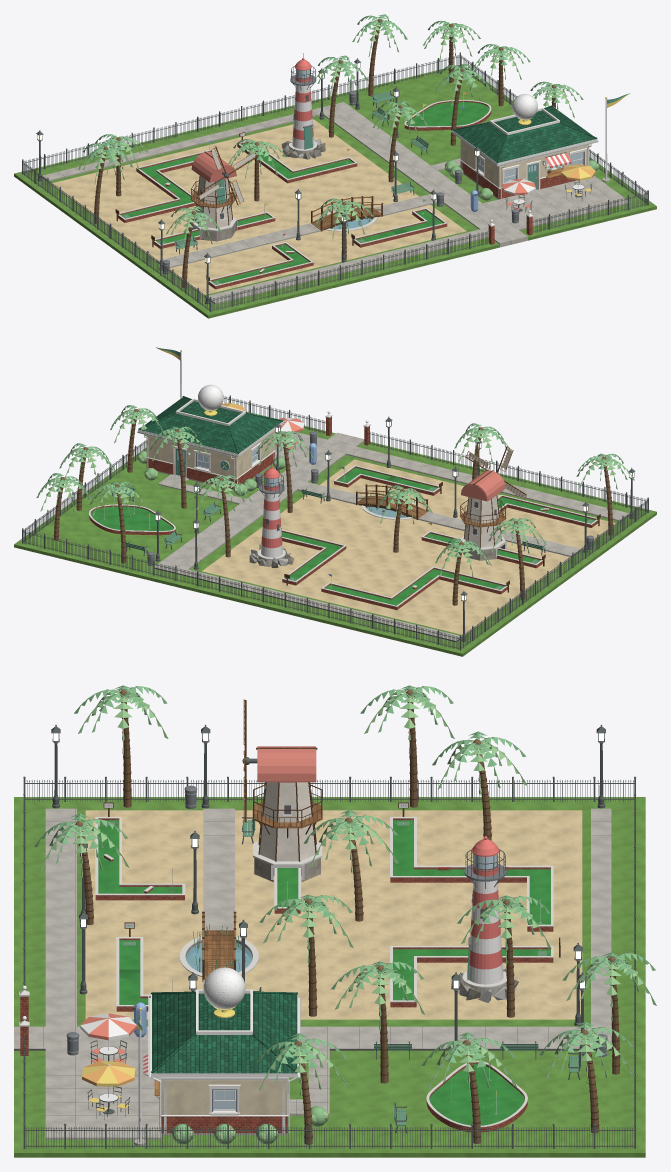
Rendered from building_assembled.glb.
3 renders of one model, top to bottom at view 1: azimuth 30°, elevation 25°; view 2: azimuth 150°, elevation 25°; view 3: azimuth 270°, elevation 25°, orthographic. The views are drawn at different scales.
Parts seen in each view (by area): view 1: geometry_219, geometry_220, geometry_217, geometry_221, geometry_129, geometry_287, geometry_256, geometry_300, geometry_257, geometry_301, geometry_127, geometry_302 (+14 smaller); view 2: geometry_219, geometry_220, geometry_221, geometry_217, geometry_129, geometry_287, geometry_300, geometry_256, geometry_257, geometry_301, geometry_302, geometry_314 (+12 smaller); view 3: geometry_219, geometry_220, geometry_217, geometry_221, geometry_129, geometry_287, geometry_300, geometry_256, geometry_301, geometry_314, geometry_236, geometry_302 (+46 smaller).
Part boxes in pixels (x1,y1,x2,y2): geometry_219: [51, 119, 466, 295]; geometry_220: [14, 64, 656, 318]; geometry_217: [42, 102, 630, 304]; geometry_221: [22, 52, 648, 312]; geometry_129: [452, 105, 597, 163]; geometry_287: [406, 102, 489, 126]; geometry_256: [121, 151, 211, 218]; geometry_300: [195, 176, 232, 228]; geometry_257: [118, 150, 218, 222]; geometry_301: [191, 152, 236, 182]; geometry_127: [452, 106, 597, 165]; geometry_302: [191, 146, 257, 228]; geometry_219: [202, 459, 616, 634]; geometry_220: [14, 411, 656, 656]; geometry_221: [22, 395, 648, 650]; geometry_217: [154, 432, 629, 640]; geometry_129: [138, 396, 283, 453]; geometry_287: [91, 506, 173, 530]; geometry_300: [464, 495, 501, 547]; geometry_256: [325, 569, 504, 605]; geometry_257: [321, 568, 507, 609]; geometry_301: [461, 470, 505, 501]; geometry_302: [460, 446, 526, 547]; geometry_314: [261, 466, 282, 548]; geometry_219: [85, 810, 582, 1019]; geometry_220: [14, 797, 645, 1157]; geometry_217: [14, 808, 611, 1139]; geometry_221: [23, 776, 636, 1148]; geometry_129: [151, 991, 297, 1073]; geometry_287: [429, 1064, 524, 1125]; geometry_300: [259, 782, 315, 861]; geometry_256: [393, 820, 550, 924]; geometry_301: [257, 746, 316, 782]; geometry_314: [469, 836, 502, 969]; geometry_236: [98, 820, 182, 893]; geometry_302: [244, 700, 322, 861].
Bounding box in the file's own units: 41.58 × 8.83 × 30.54.
Materials: 68 (16 with a texture image).
